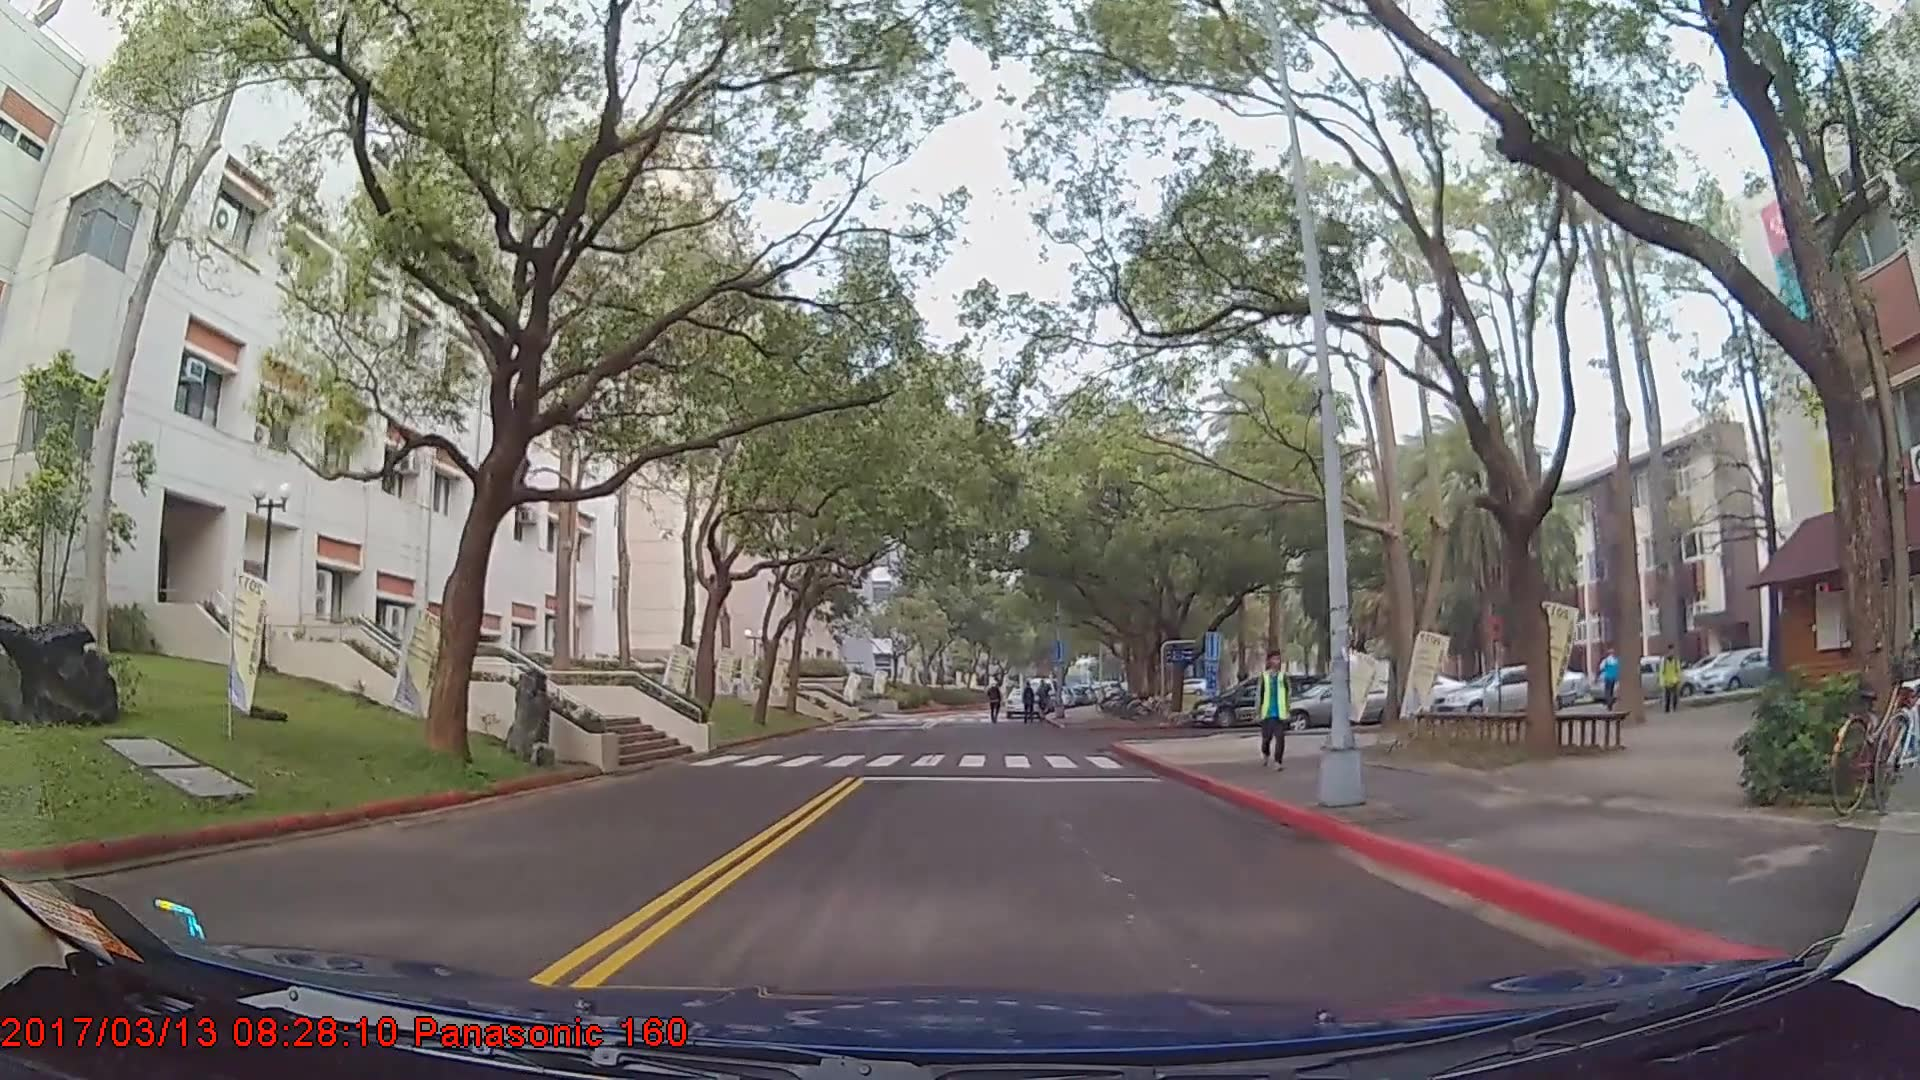pedestrian: (1255, 651, 1297, 777), (1594, 642, 1631, 717), (1659, 649, 1683, 718), (1020, 682, 1040, 726)
vehicle: (1432, 663, 1574, 722), (1278, 676, 1416, 728), (1194, 673, 1316, 728), (1693, 647, 1784, 695)
